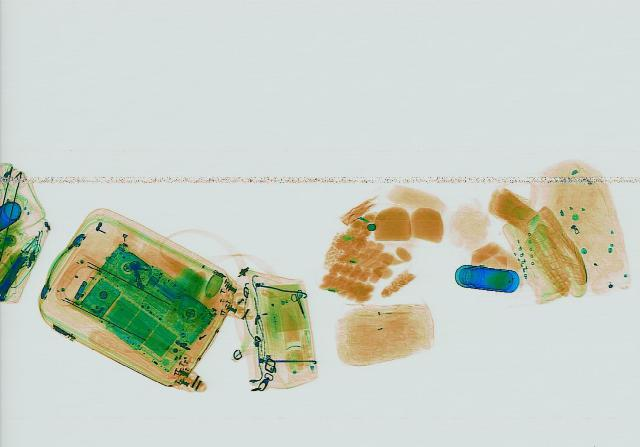Scissors: (286, 288, 314, 318)
